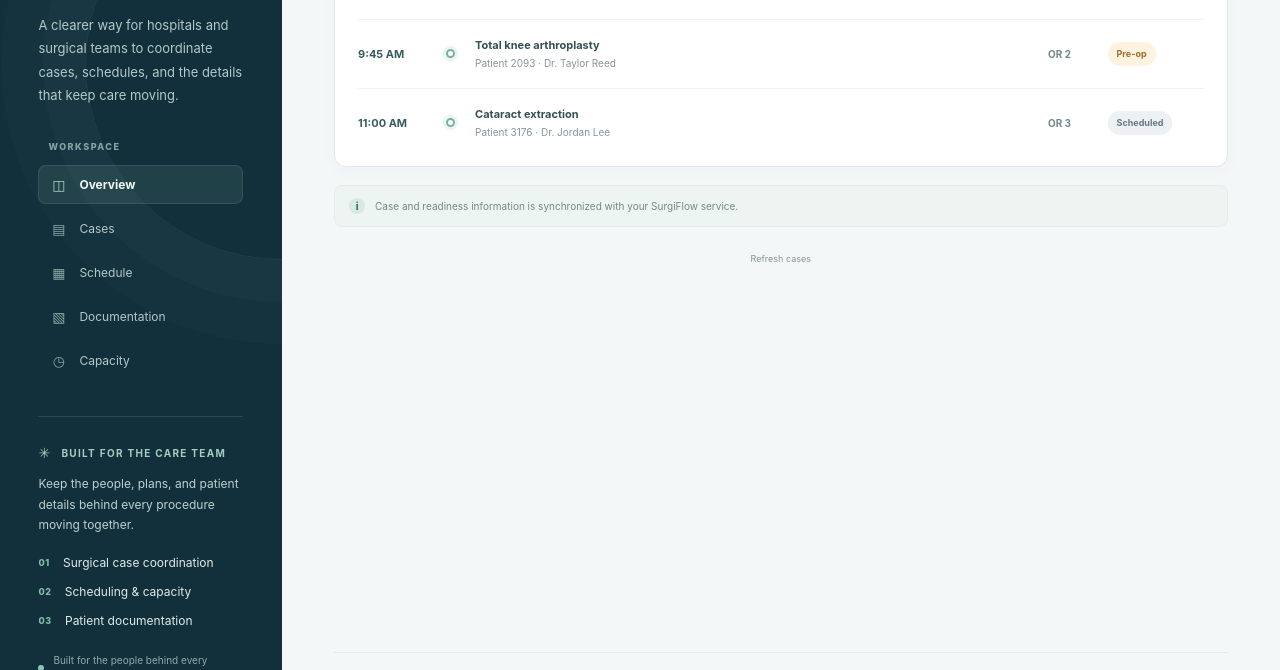
Test: HomePage › marks a case ready when its required documents are complete
(page scrolled)
Click the button "▧ Documentation" at (141, 317), box [38,297,243,336]
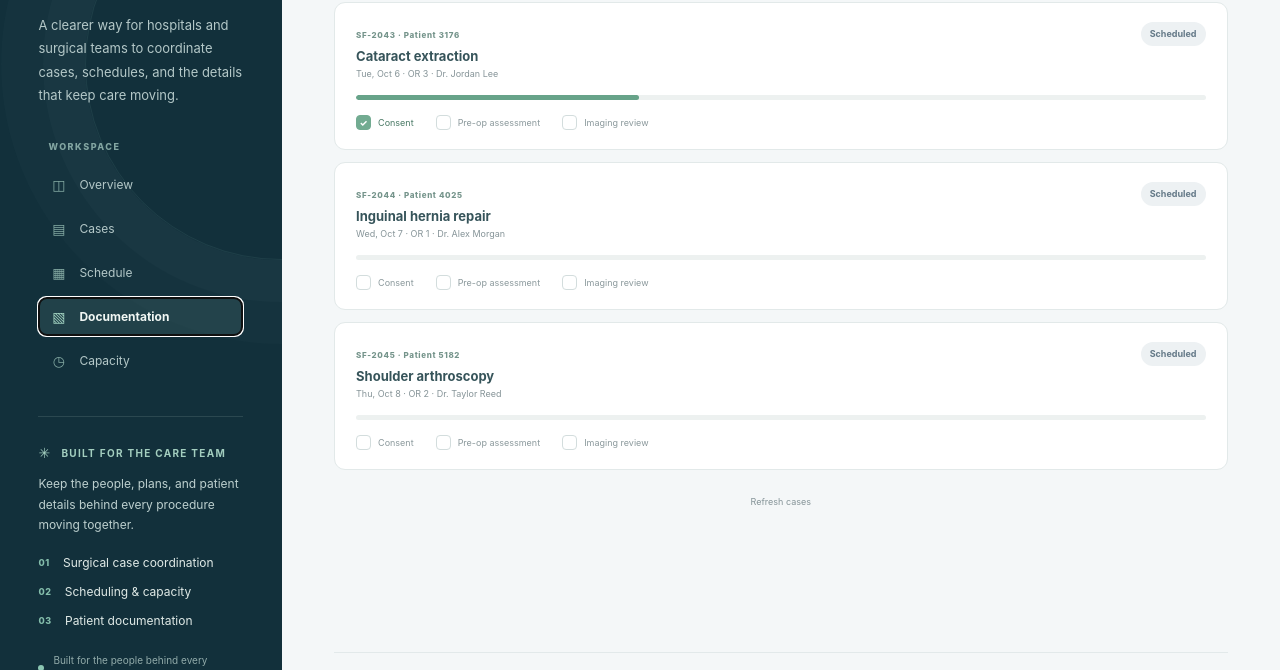
Click the checkbox named "Pre-op assessment for SF-2043" at (488, 122), box [436,115,540,130]
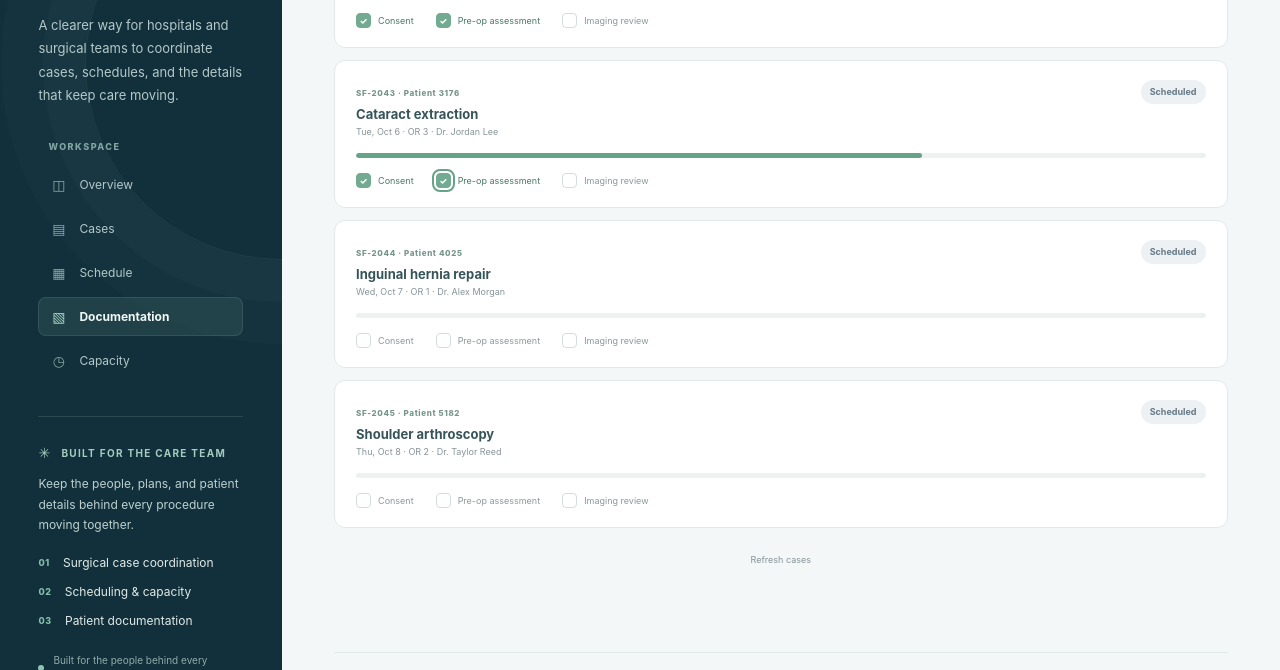
Click the checkbox named "Imaging review for SF-2043" at (605, 180), box [562,173,648,188]
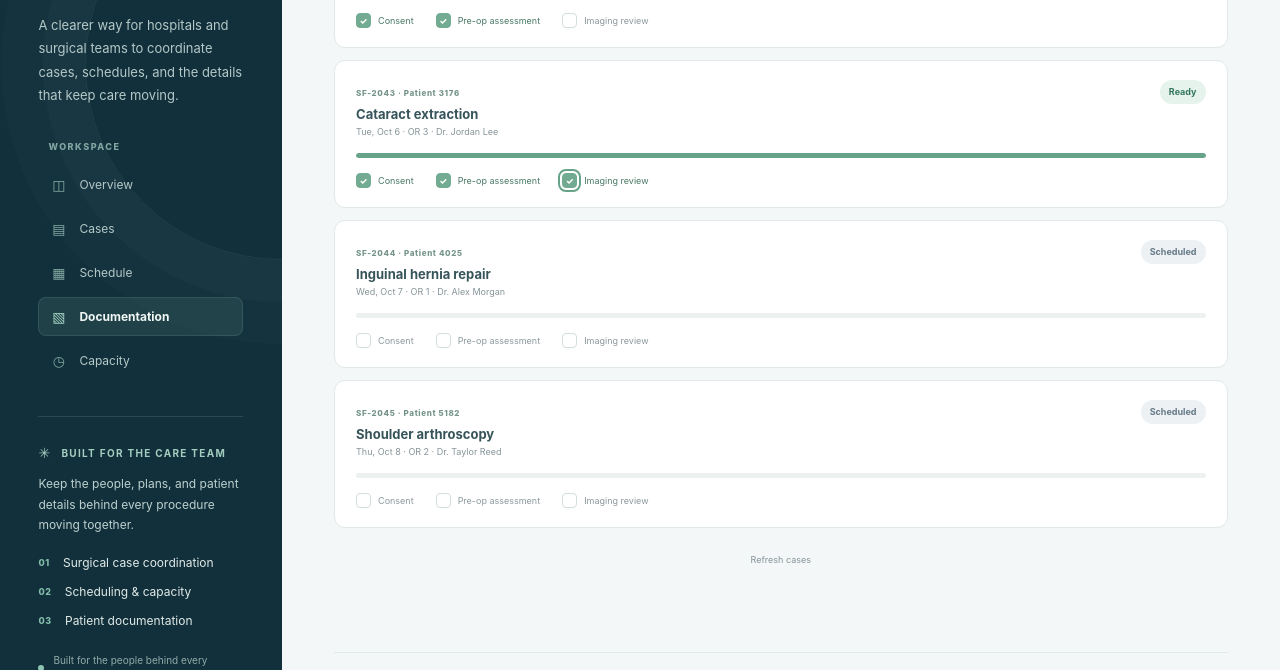
Expected: the text "SF-2043 · Patient 3176" is shown, [334,60,1228,208]
Expected: the text "Ready" is shown, [1160,80,1206,104]
